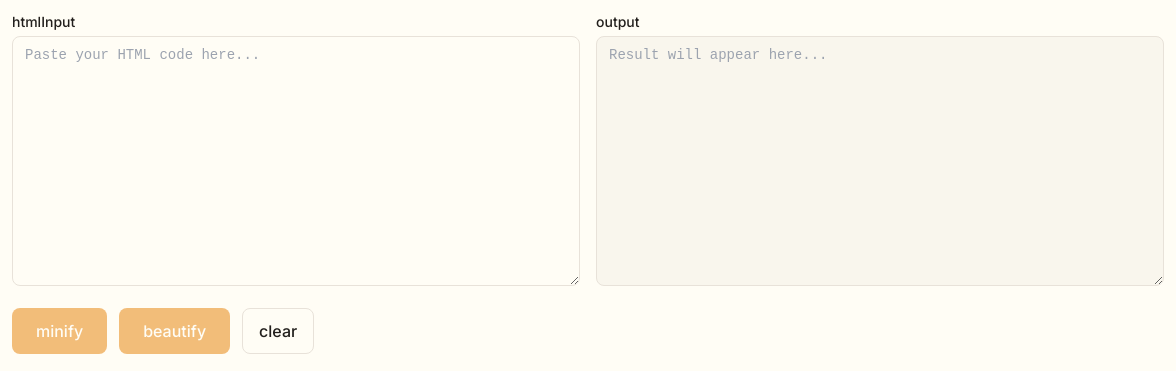
it: HtmlMinifier › enables buttons when input has content
Step 1. Type "<div>hello</div>" into the text box named "HTML input" → (296, 161), box [12,36,580,286]
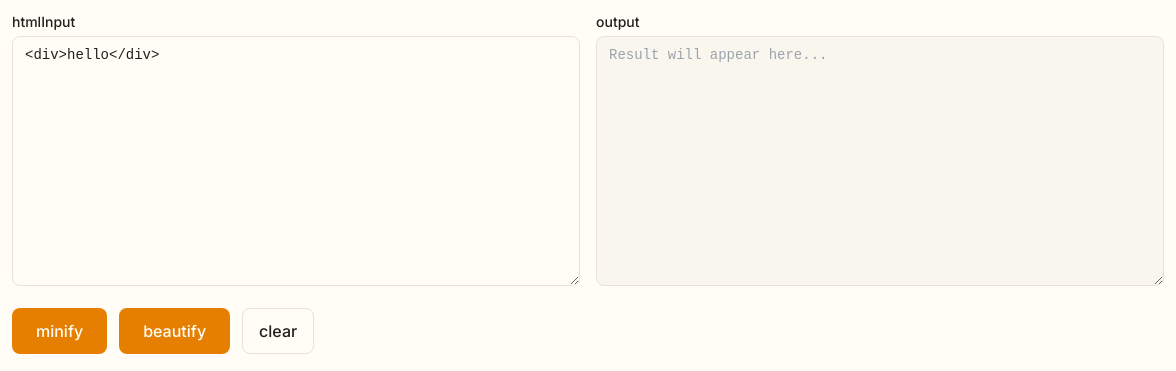
Check: the button "minify" is enabled, box [12,308,107,354]
Check: the button "beautify" is enabled, box [119,308,230,354]
